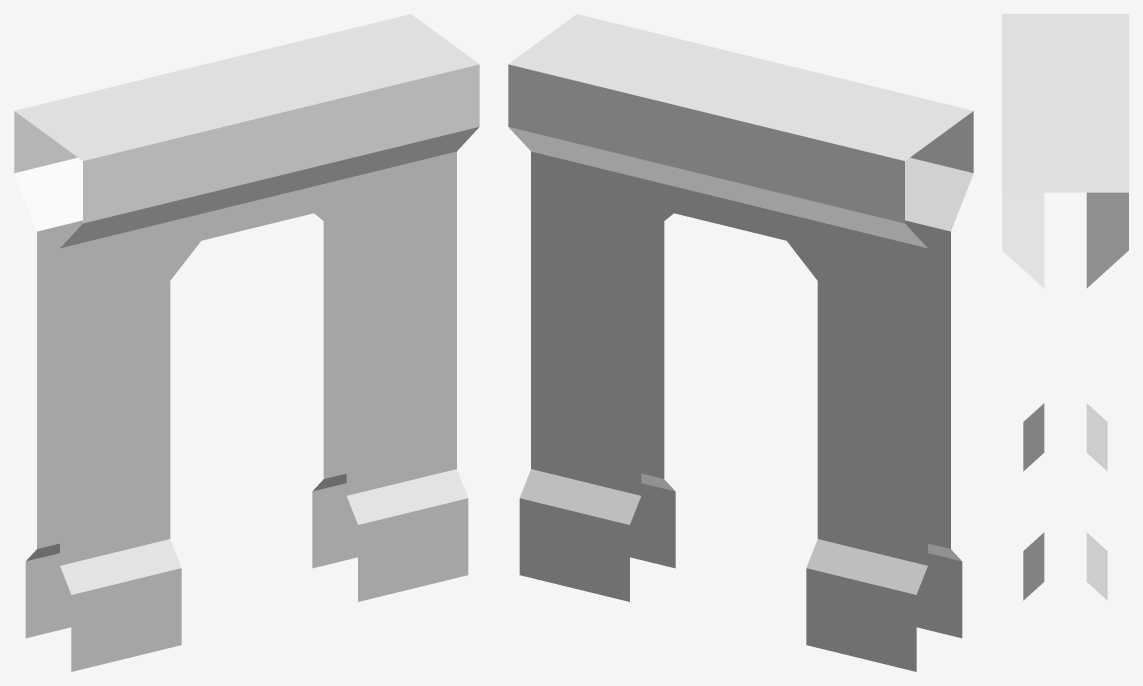
Rendered from door_single_small_a.fbx.
The picture shows the model from 3 angles, left to right: view 1: azimuth 30°, elevation 25°; view 2: azimuth 150°, elevation 25°; view 3: azimuth 270°, elevation 25°; orthographic projection. The views are drawn at different scales.
Parts seen in each view (by area): view 1: door_single_small_a; view 2: door_single_small_a; view 3: door_single_small_a.
Boxes of the visible parts, box(x1,y1,x2,y2) form: door_single_small_a: box(14, 14, 479, 671); door_single_small_a: box(508, 14, 973, 671); door_single_small_a: box(1002, 14, 1128, 600).
Size of the model in its own units: 2 by 2.5 by 0.6.
